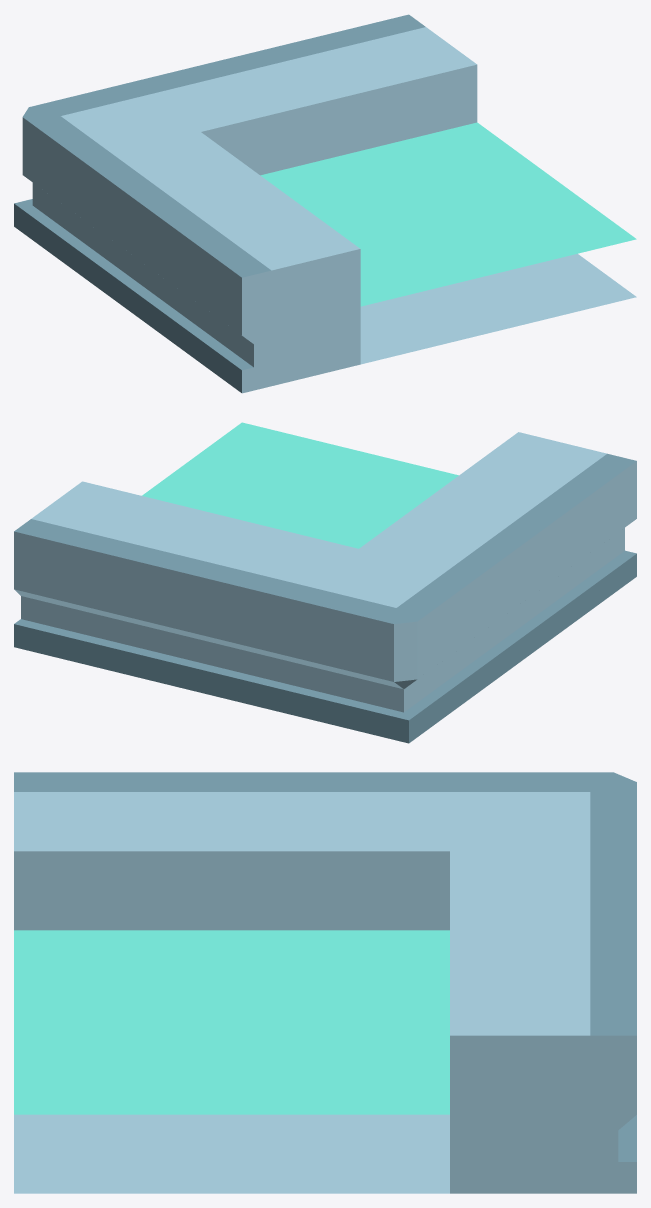
File: fountainCorner.fbx
The picture shows the model from 3 angles, top to bottom: view 1: azimuth 30°, elevation 25°; view 2: azimuth 150°, elevation 25°; view 3: azimuth 270°, elevation 25°; orthographic projection. The views are drawn at different scales.
Parts seen in each view (by area): view 1: fountainCorner; view 2: fountainCorner; view 3: fountainCorner.
Boxes of the visible parts, x1=… form: fountainCorner: x1=14, y1=14, x2=636, y2=393; fountainCorner: x1=14, y1=422, x2=636, y2=743; fountainCorner: x1=14, y1=772, x2=636, y2=1193.
Size of the model in its own units: 10 by 2.8 by 10.
